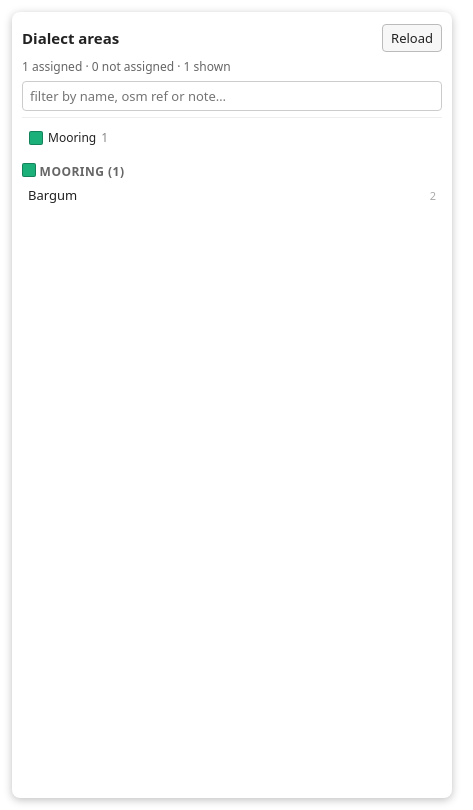
Test: AreaPanel › shows the research note of the selected municipality's row
What coordinates should you click on to do the following:
click the button "Bargum 2"
I would click on:
 (53, 195)
Its box is x1=22 y1=182 x2=442 y2=208.
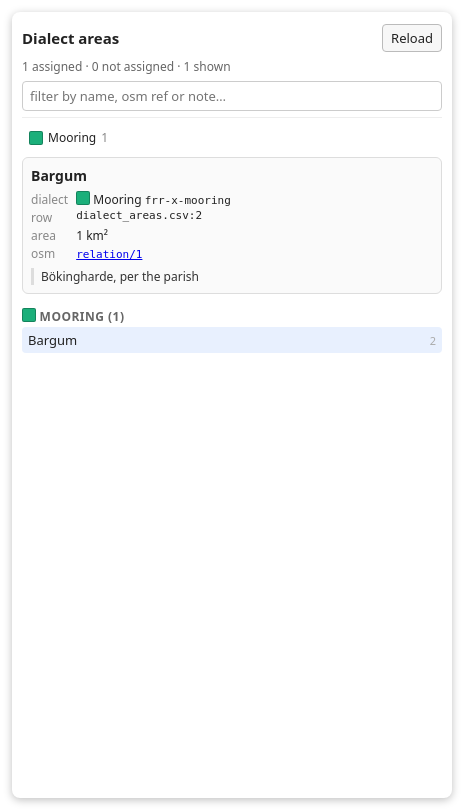
Expected: the text "Bökingharde, per the parish" is shown, x1=31 y1=268 x2=433 y2=285
